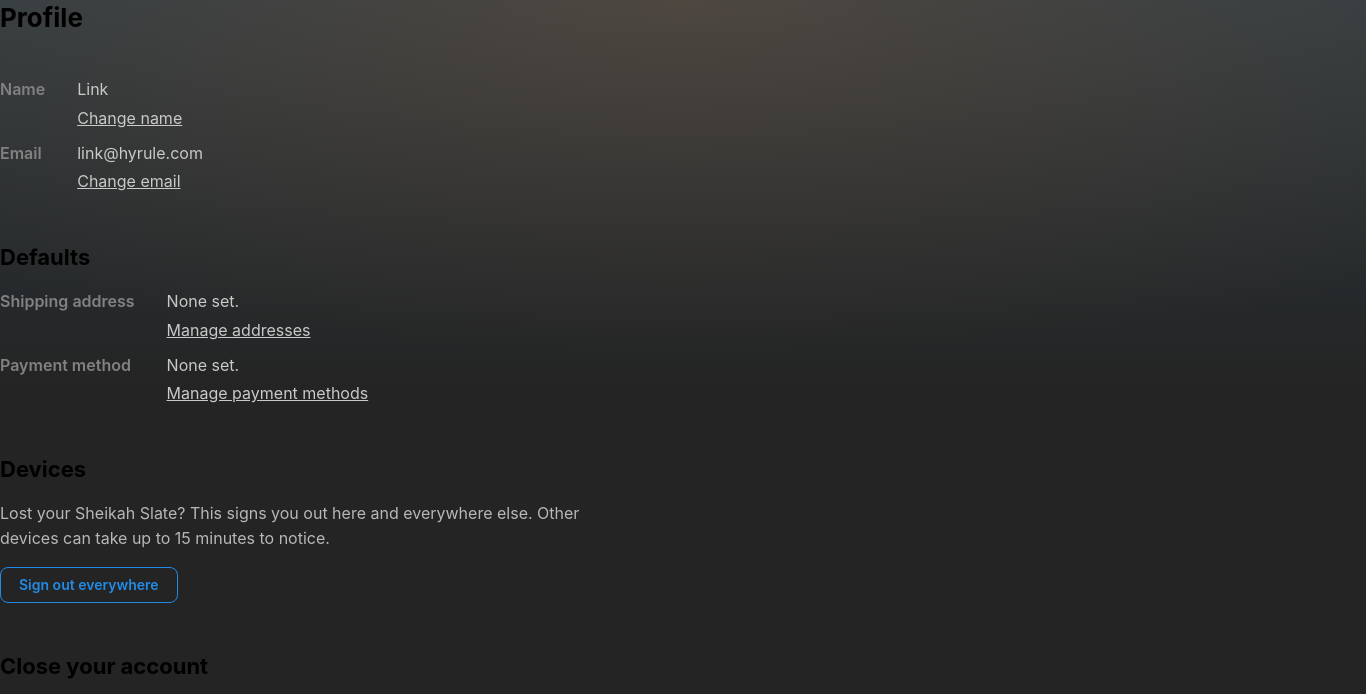
Scenario: ProfileSection › changes the name
The image size is (1366, 694).
Click the button "Change name" at {"x": 130, "y": 118}, box [77,106,182,131]
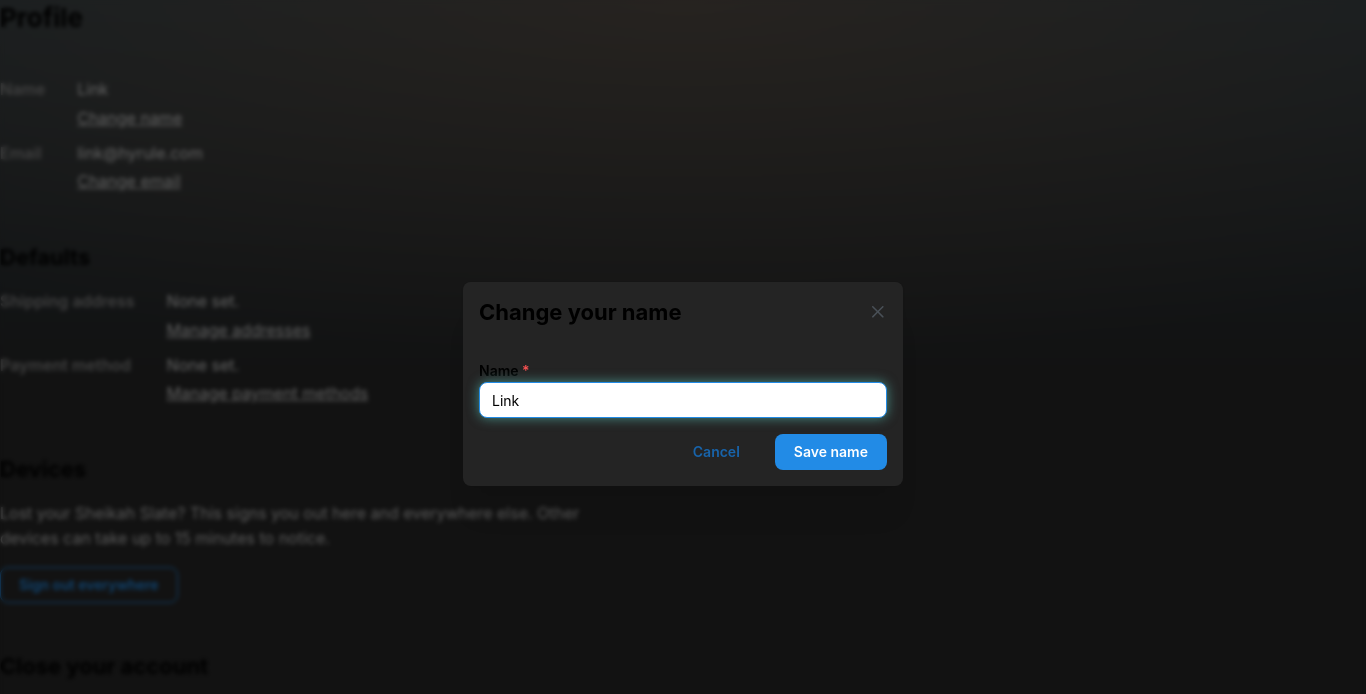
Replace the text in the field labelled "Name *" with "  Hero of Twilight " at {"x": 683, "y": 400}, box [479,382,887,418]
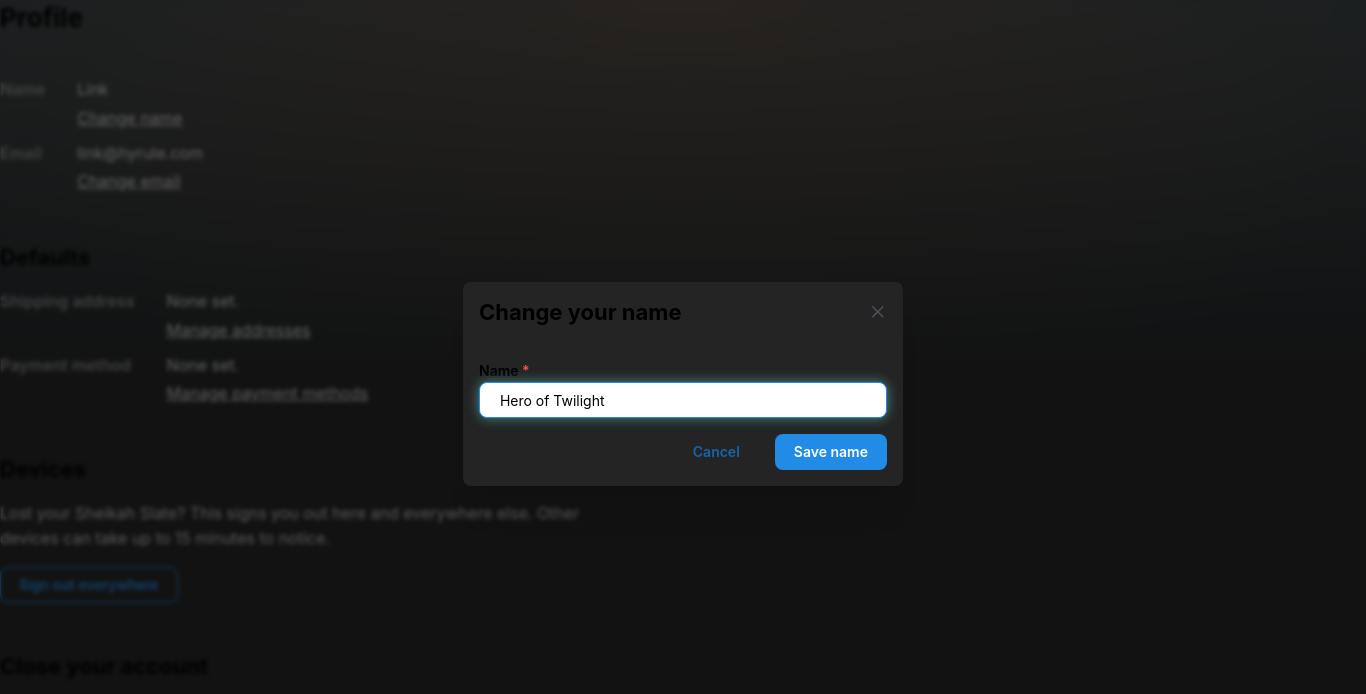
Click the button "Save name" at {"x": 831, "y": 452}, box [775,434,887,470]
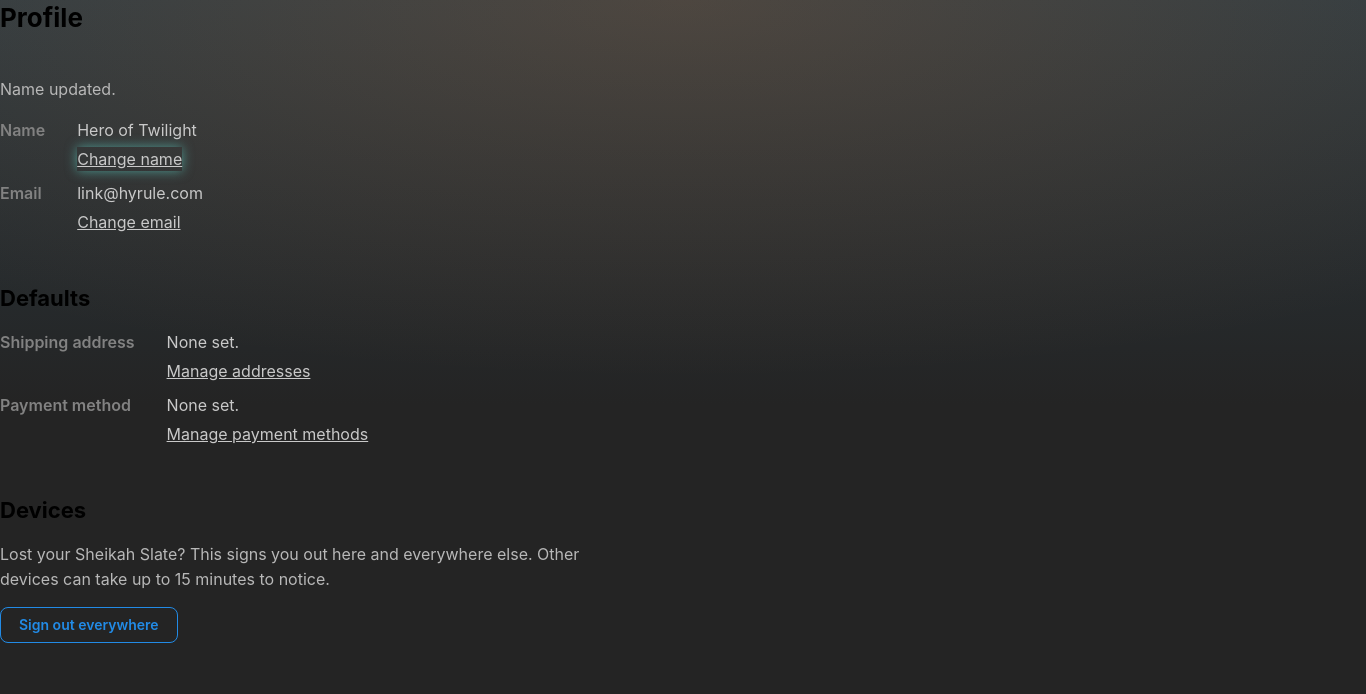
Now the text "Name updated." is shown, box [0,79,116,99]
Now the text "Hero of Twilight" is shown, box [77,118,197,143]
